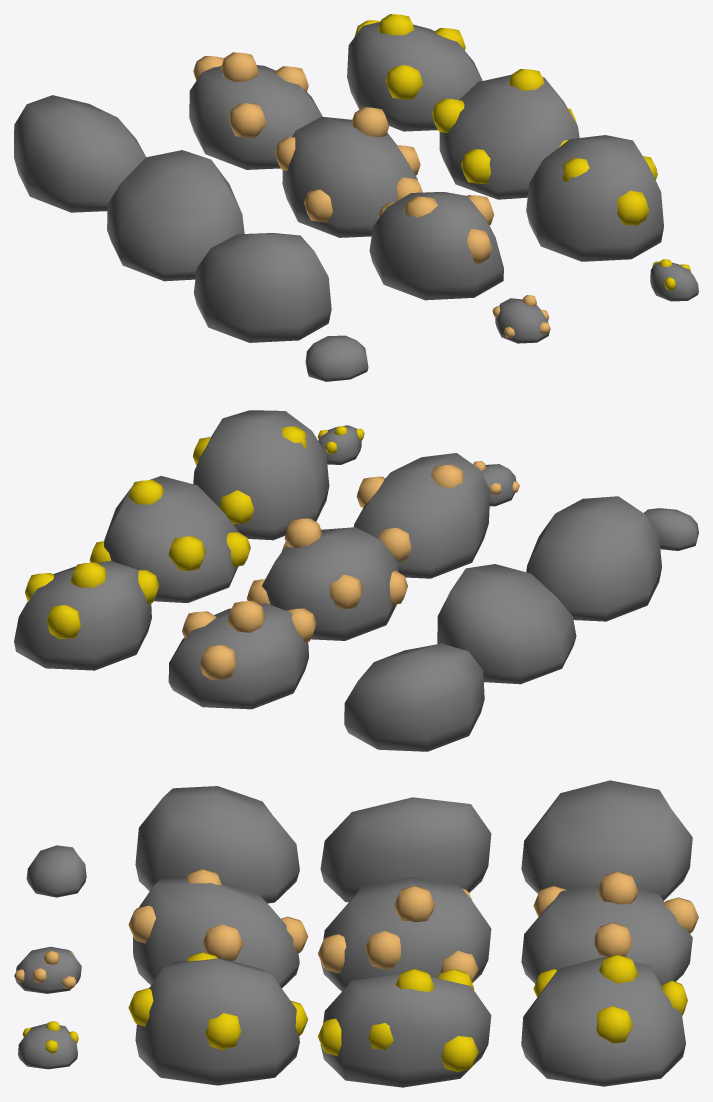
File: Minerals.fbx
3 renders of one model, top to bottom at view 1: azimuth 30°, elevation 25°; view 2: azimuth 150°, elevation 25°; view 3: azimuth 270°, elevation 25°, orthographic. The views are drawn at different scales.
Parts seen in each view (by area): view 1: Gold-1, Iron-2, Rock-2, Gold-2, Rock-1, Iron-1, Rock-3, Iron-3, Gold-3, Rock-1.001, Iron-2.001, Gold-3.001; view 2: Gold-1, Gold-2, Rock-1, Gold-3, Iron-3, Iron-1, Iron-2, Rock-2, Rock-3, Rock-1.001, Gold-3.001, Iron-2.001; view 3: Gold-1, Gold-3, Gold-2, Rock-3, Iron-2, Rock-1, Iron-1, Iron-3, Rock-2, Iron-2.001, Rock-1.001, Gold-3.001.
Part boxes in pixels (x1,y1,x2,y2): Gold-1: (526, 135, 663, 261); Iron-2: (275, 107, 422, 237); Rock-2: (107, 150, 244, 281); Gold-2: (432, 69, 579, 199); Rock-1: (194, 233, 331, 342); Iron-1: (369, 192, 503, 300); Rock-3: (14, 95, 145, 212); Iron-3: (189, 52, 322, 169); Gold-3: (347, 14, 482, 131); Rock-1.001: (305, 335, 368, 381); Iron-2.001: (492, 295, 550, 343); Gold-3.001: (650, 259, 698, 301); Gold-1: (193, 410, 329, 540); Gold-2: (89, 476, 250, 602); Rock-1: (526, 496, 661, 621); Gold-3: (14, 560, 159, 670); Iron-3: (168, 600, 316, 709); Iron-1: (354, 453, 490, 578); Iron-2: (246, 518, 407, 640); Rock-2: (437, 564, 576, 684); Rock-3: (344, 643, 484, 751); Rock-1.001: (644, 508, 698, 550); Gold-3.001: (317, 425, 364, 464); Iron-2.001: (473, 461, 519, 506); Gold-1: (128, 952, 308, 1085); Gold-3: (521, 954, 687, 1086); Gold-2: (318, 968, 491, 1087); Rock-3: (521, 780, 692, 900); Iron-2: (318, 876, 491, 991); Rock-1: (135, 786, 299, 903); Iron-1: (128, 869, 308, 988); Iron-3: (521, 871, 698, 983); Rock-2: (320, 797, 491, 902); Iron-2.001: (14, 946, 81, 993); Rock-1.001: (26, 845, 86, 897); Gold-3.001: (18, 1021, 78, 1069).
Size of the model in its own units: 731 by 150 by 882.
